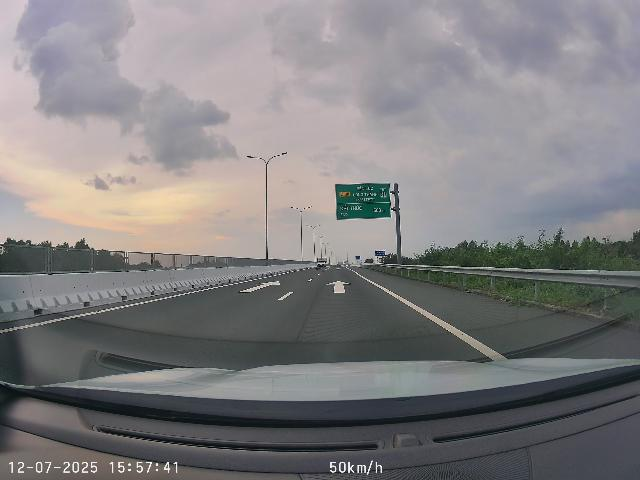438-ket-thuc-duong-cao-toc: (380, 188, 387, 198)
